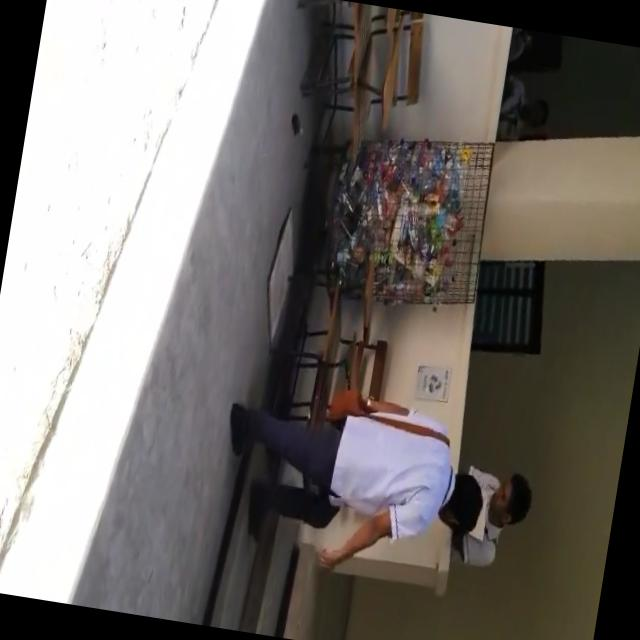Bottle: (291, 111, 304, 136)
